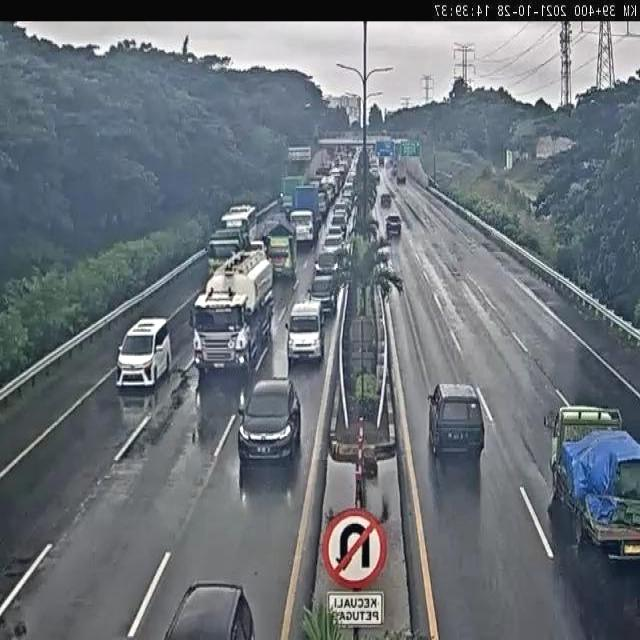Bus: (217, 204, 260, 248)
Car: (237, 378, 301, 465), (164, 582, 257, 640), (428, 382, 488, 464), (115, 317, 173, 388), (306, 274, 338, 316), (314, 250, 341, 276), (322, 234, 345, 255), (330, 213, 348, 234), (386, 214, 402, 236), (326, 224, 345, 242), (317, 191, 329, 218), (332, 202, 349, 218), (380, 193, 391, 208)
Truck: (542, 401, 640, 564), (186, 246, 277, 374), (260, 217, 300, 283), (290, 183, 319, 249), (206, 227, 247, 271), (278, 172, 308, 220), (396, 160, 407, 184)
Van: (287, 298, 326, 365)
